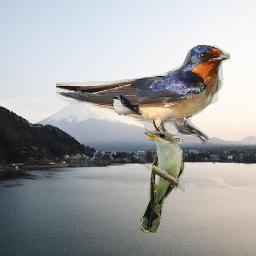Cuckoo: (140, 131, 185, 233)
Swallow: (56, 45, 230, 144), (111, 94, 143, 116)
